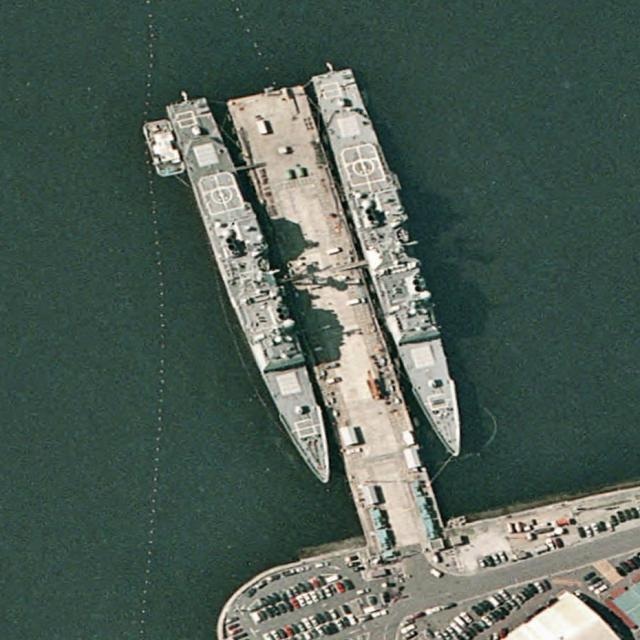Cruiser: (163, 91, 348, 493), (310, 65, 473, 462)
Dock: (224, 76, 447, 558)
Other Ship: (141, 116, 186, 181)
